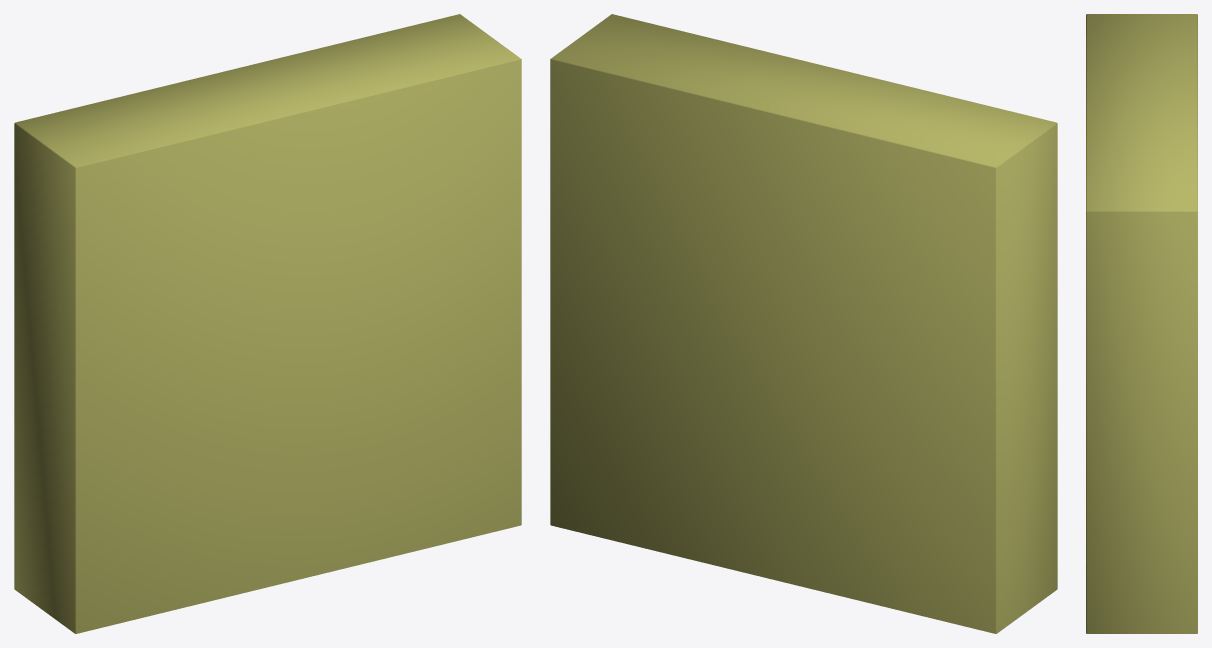
The model's file is display.fbx.
The picture shows the model from 3 angles, left to right: view 1: azimuth 30°, elevation 25°; view 2: azimuth 150°, elevation 25°; view 3: azimuth 270°, elevation 25°; orthographic projection. The views are drawn at different scales.
Parts seen in each view (by area): view 1: display; view 2: display; view 3: display.
Part boxes in pixels (x1,y1,x2,y2): display: (14, 14, 521, 633); display: (550, 14, 1057, 633); display: (1086, 14, 1197, 633).
Bounding box in the file's own units: 3 × 3 × 0.7182.
